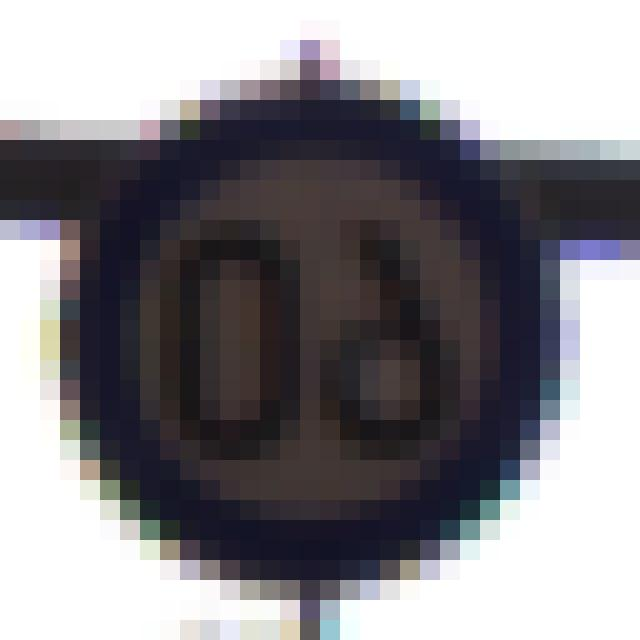SPEED-LIMIT-60: (42, 64, 570, 608)
